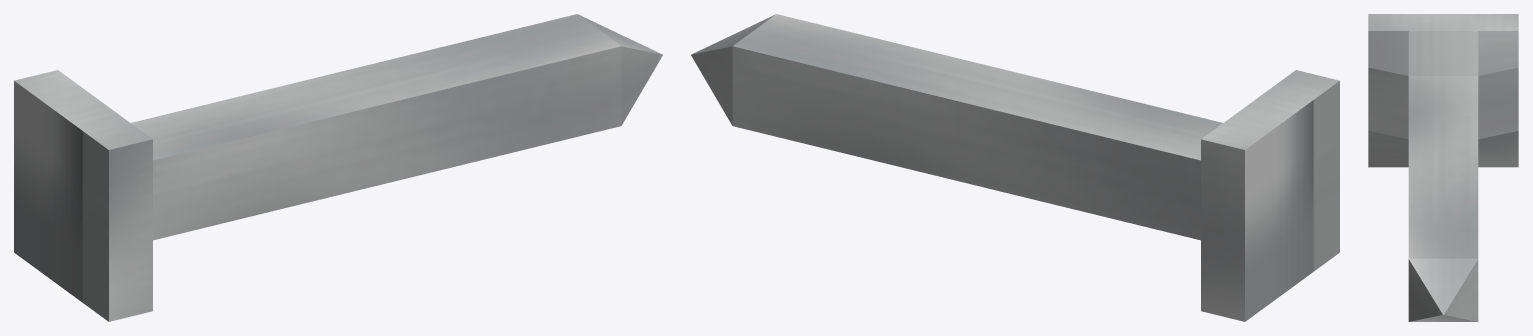
File: nail.obj
3 views of the same model, side by side, from view 1: azimuth 30°, elevation 25°; view 2: azimuth 150°, elevation 25°; view 3: azimuth 270°, elevation 25° (orthographic). The views are drawn at different scales.
Parts seen in each view (by area): view 1: Cube; view 2: Cube; view 3: Cube.
Part boxes in pixels (x1,y1,x2,y2): Cube: (14, 14, 662, 321); Cube: (691, 14, 1339, 321); Cube: (1368, 14, 1518, 321).
Size of the model in its own units: 2.73 by 0.7472 by 0.7472.
1 material, 1 textured.
